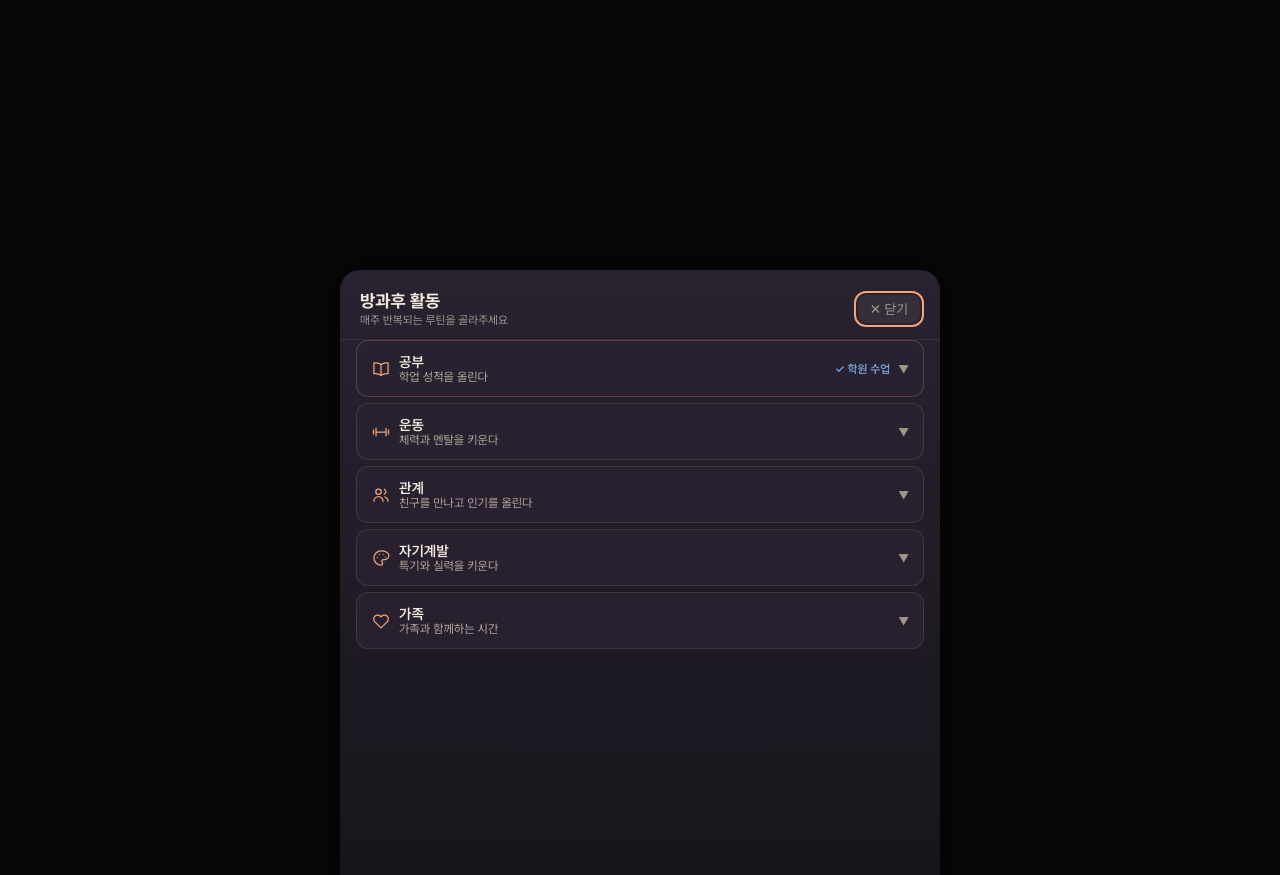
Test case: 루틴 피커 — 이 선택 때문에 이번 주를 확정할 수 없게 되면 막는다(엔진 판정, 플래그 꺼짐에도 나가는 경로) › 미납 학원을 인강으로 바꾸면 학원 몫 대신 인강 몫을 낸다 — 인강 몫이 되면 고를 수 있다
The width and height of the screenshot is (1280, 875).
Click the button "공부 학업 성적을 올린다 ✓ 학원 수업 ▼": [444, 377] box [357,341,923,396]
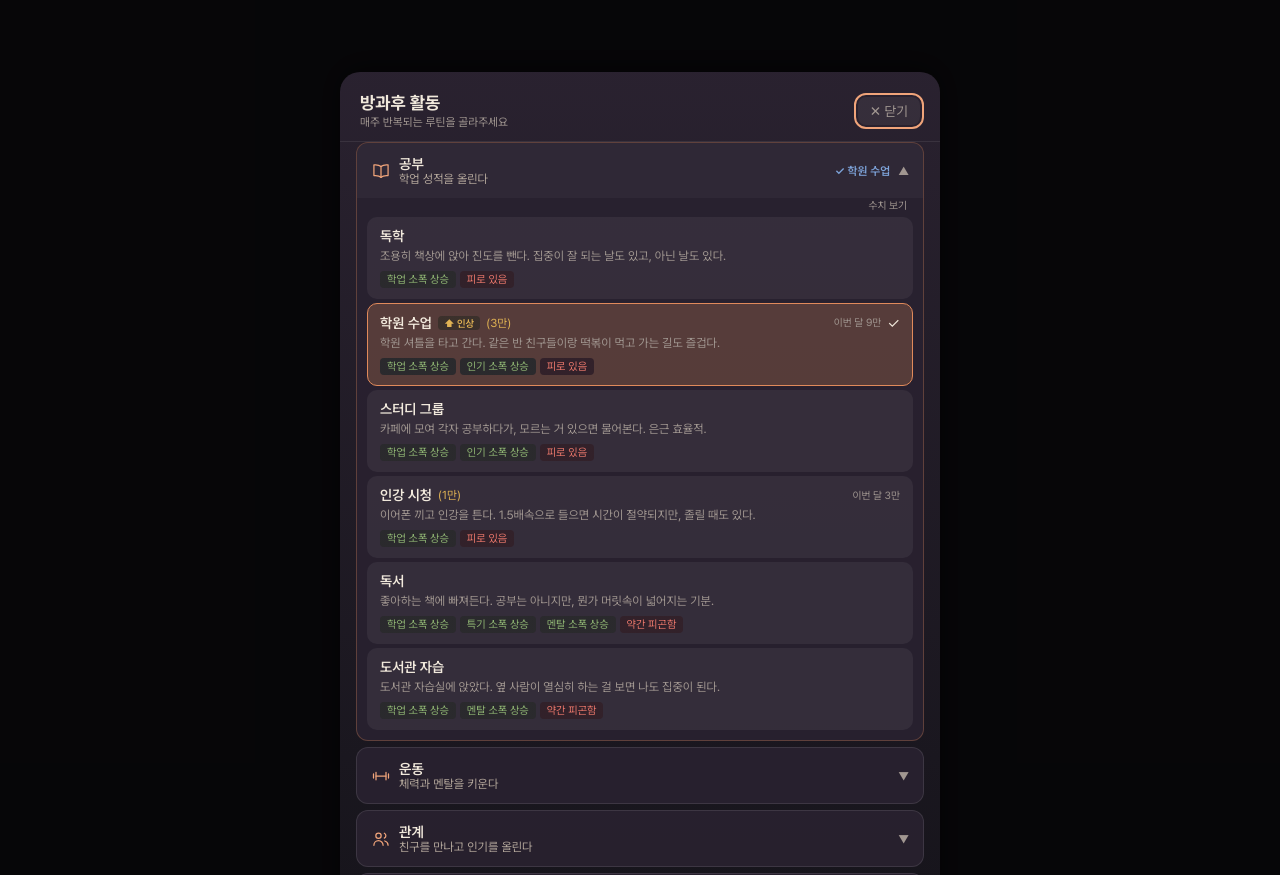
Check: the button that starts with "인강 시청" is enabled, box [367,476,913,558]
